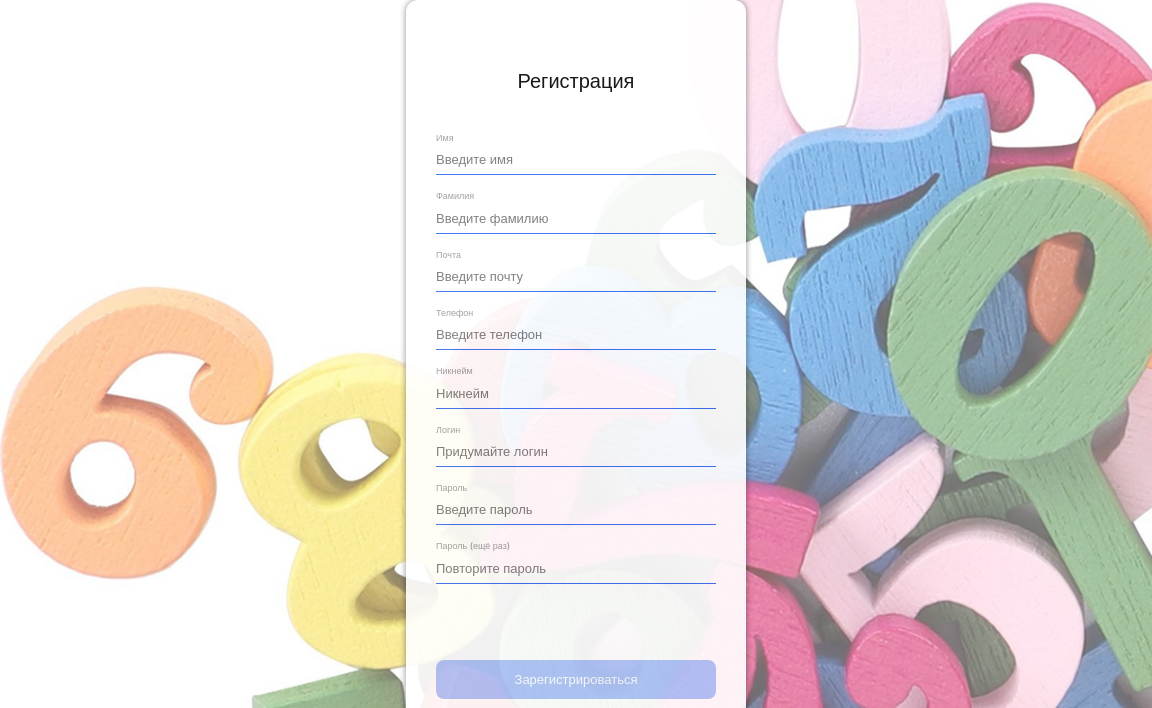
Scenario: SignUpPage › shows error validate for password with spaces
This screenshot has width=1152, height=708.
Step 1. Type "Password 123" into the password field labelled "Пароль" → (576, 509), box [436,493,716,525]
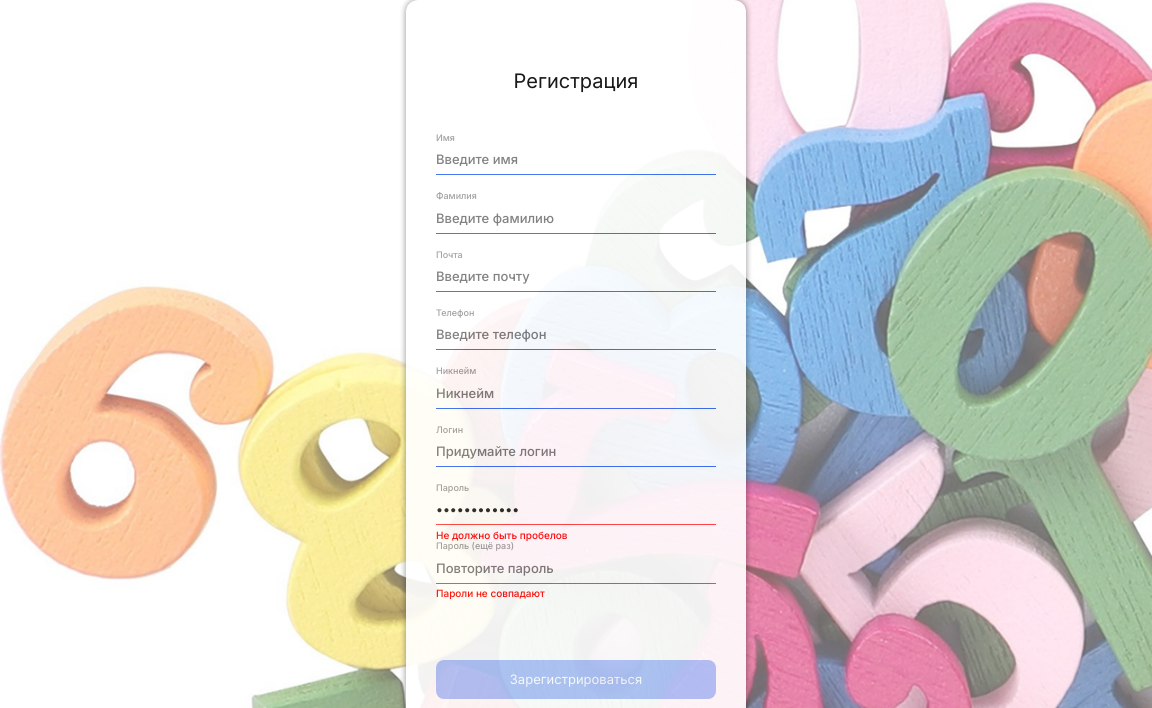
Check: the text "Не должно быть пробелов" is shown, box [436,530,568,541]
